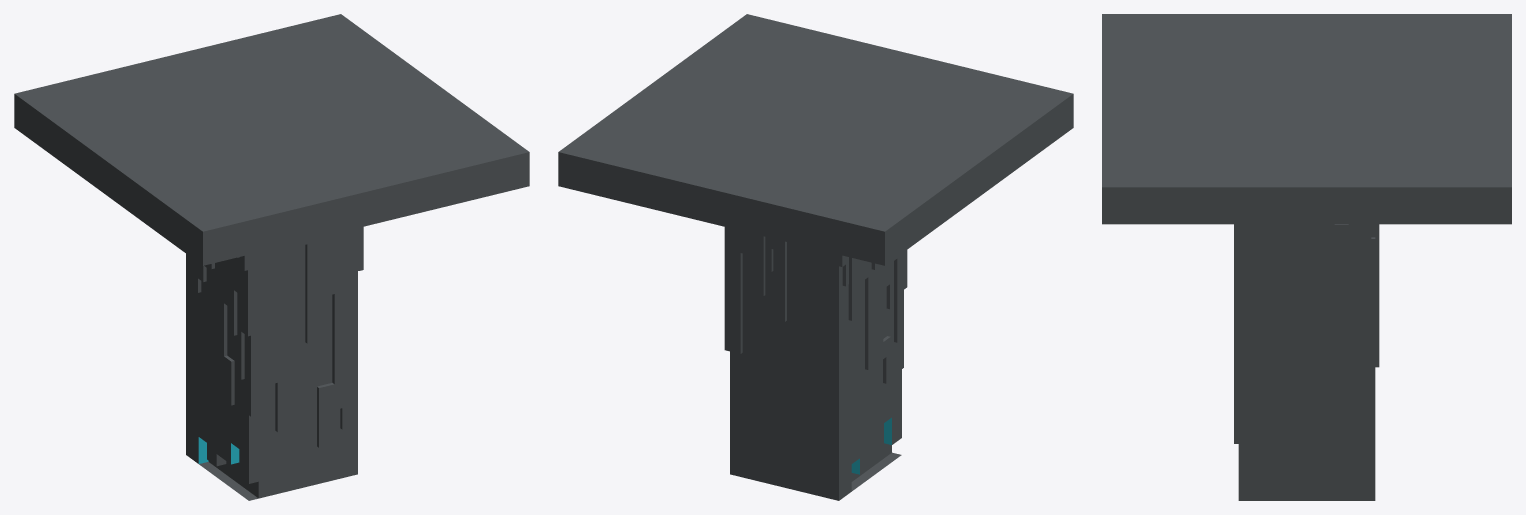
The model's file is EspacioContenidoColumnaInteriorBajoNS.gltf.
3 renders of one model, left to right at view 1: azimuth 30°, elevation 25°; view 2: azimuth 150°, elevation 25°; view 3: azimuth 270°, elevation 25°, orthographic. The views are drawn at different scales.
Visible parts, largest first — view 1: Objeto Poligonal.6; view 2: Objeto Poligonal.6; view 3: Objeto Poligonal.6.
Boxes of the visible parts, left/top/right/bottom form: Objeto Poligonal.6: left=14, top=14, right=529, bottom=500; Objeto Poligonal.6: left=558, top=14, right=1073, bottom=500; Objeto Poligonal.6: left=1102, top=14, right=1511, bottom=500.
Size of the model in its own units: 2 by 2 by 2.
1 material, 1 textured.
